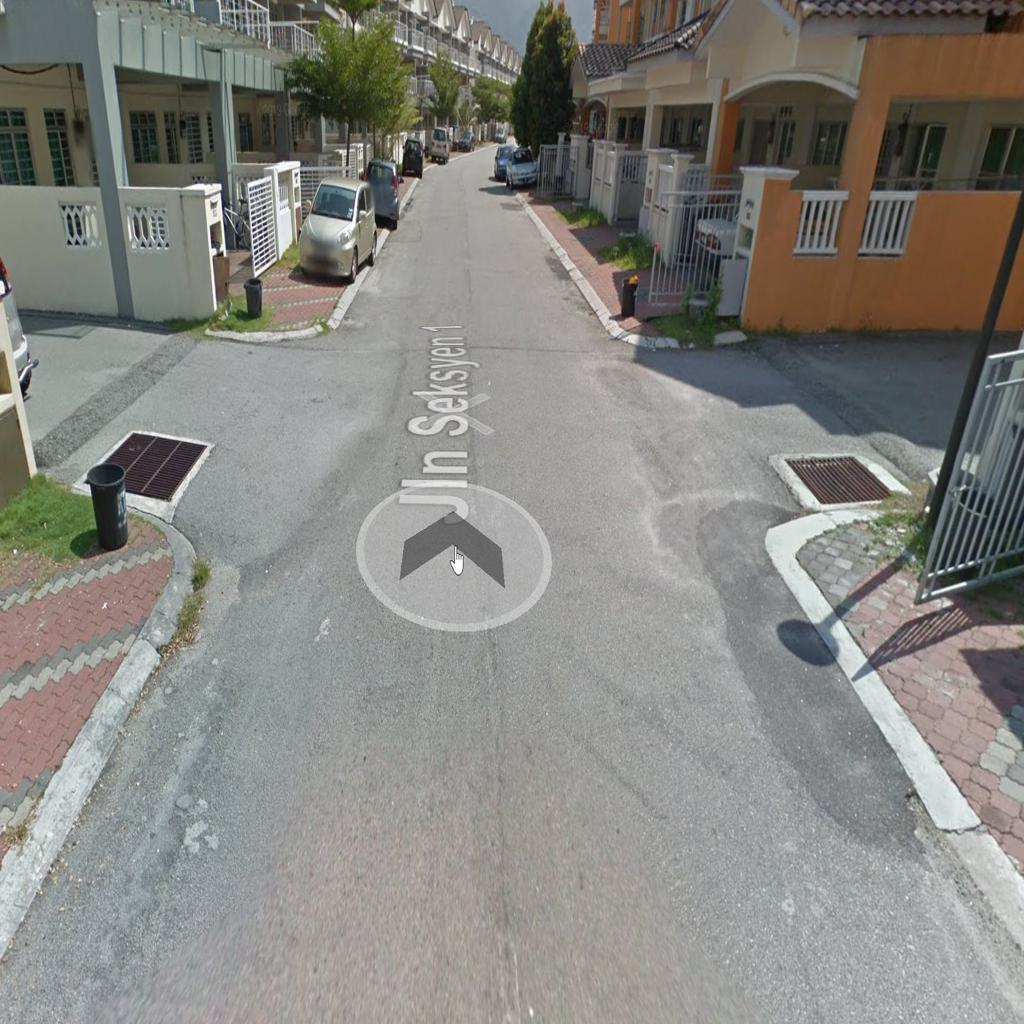Junction: (28, 286, 349, 598), (585, 306, 974, 556)
